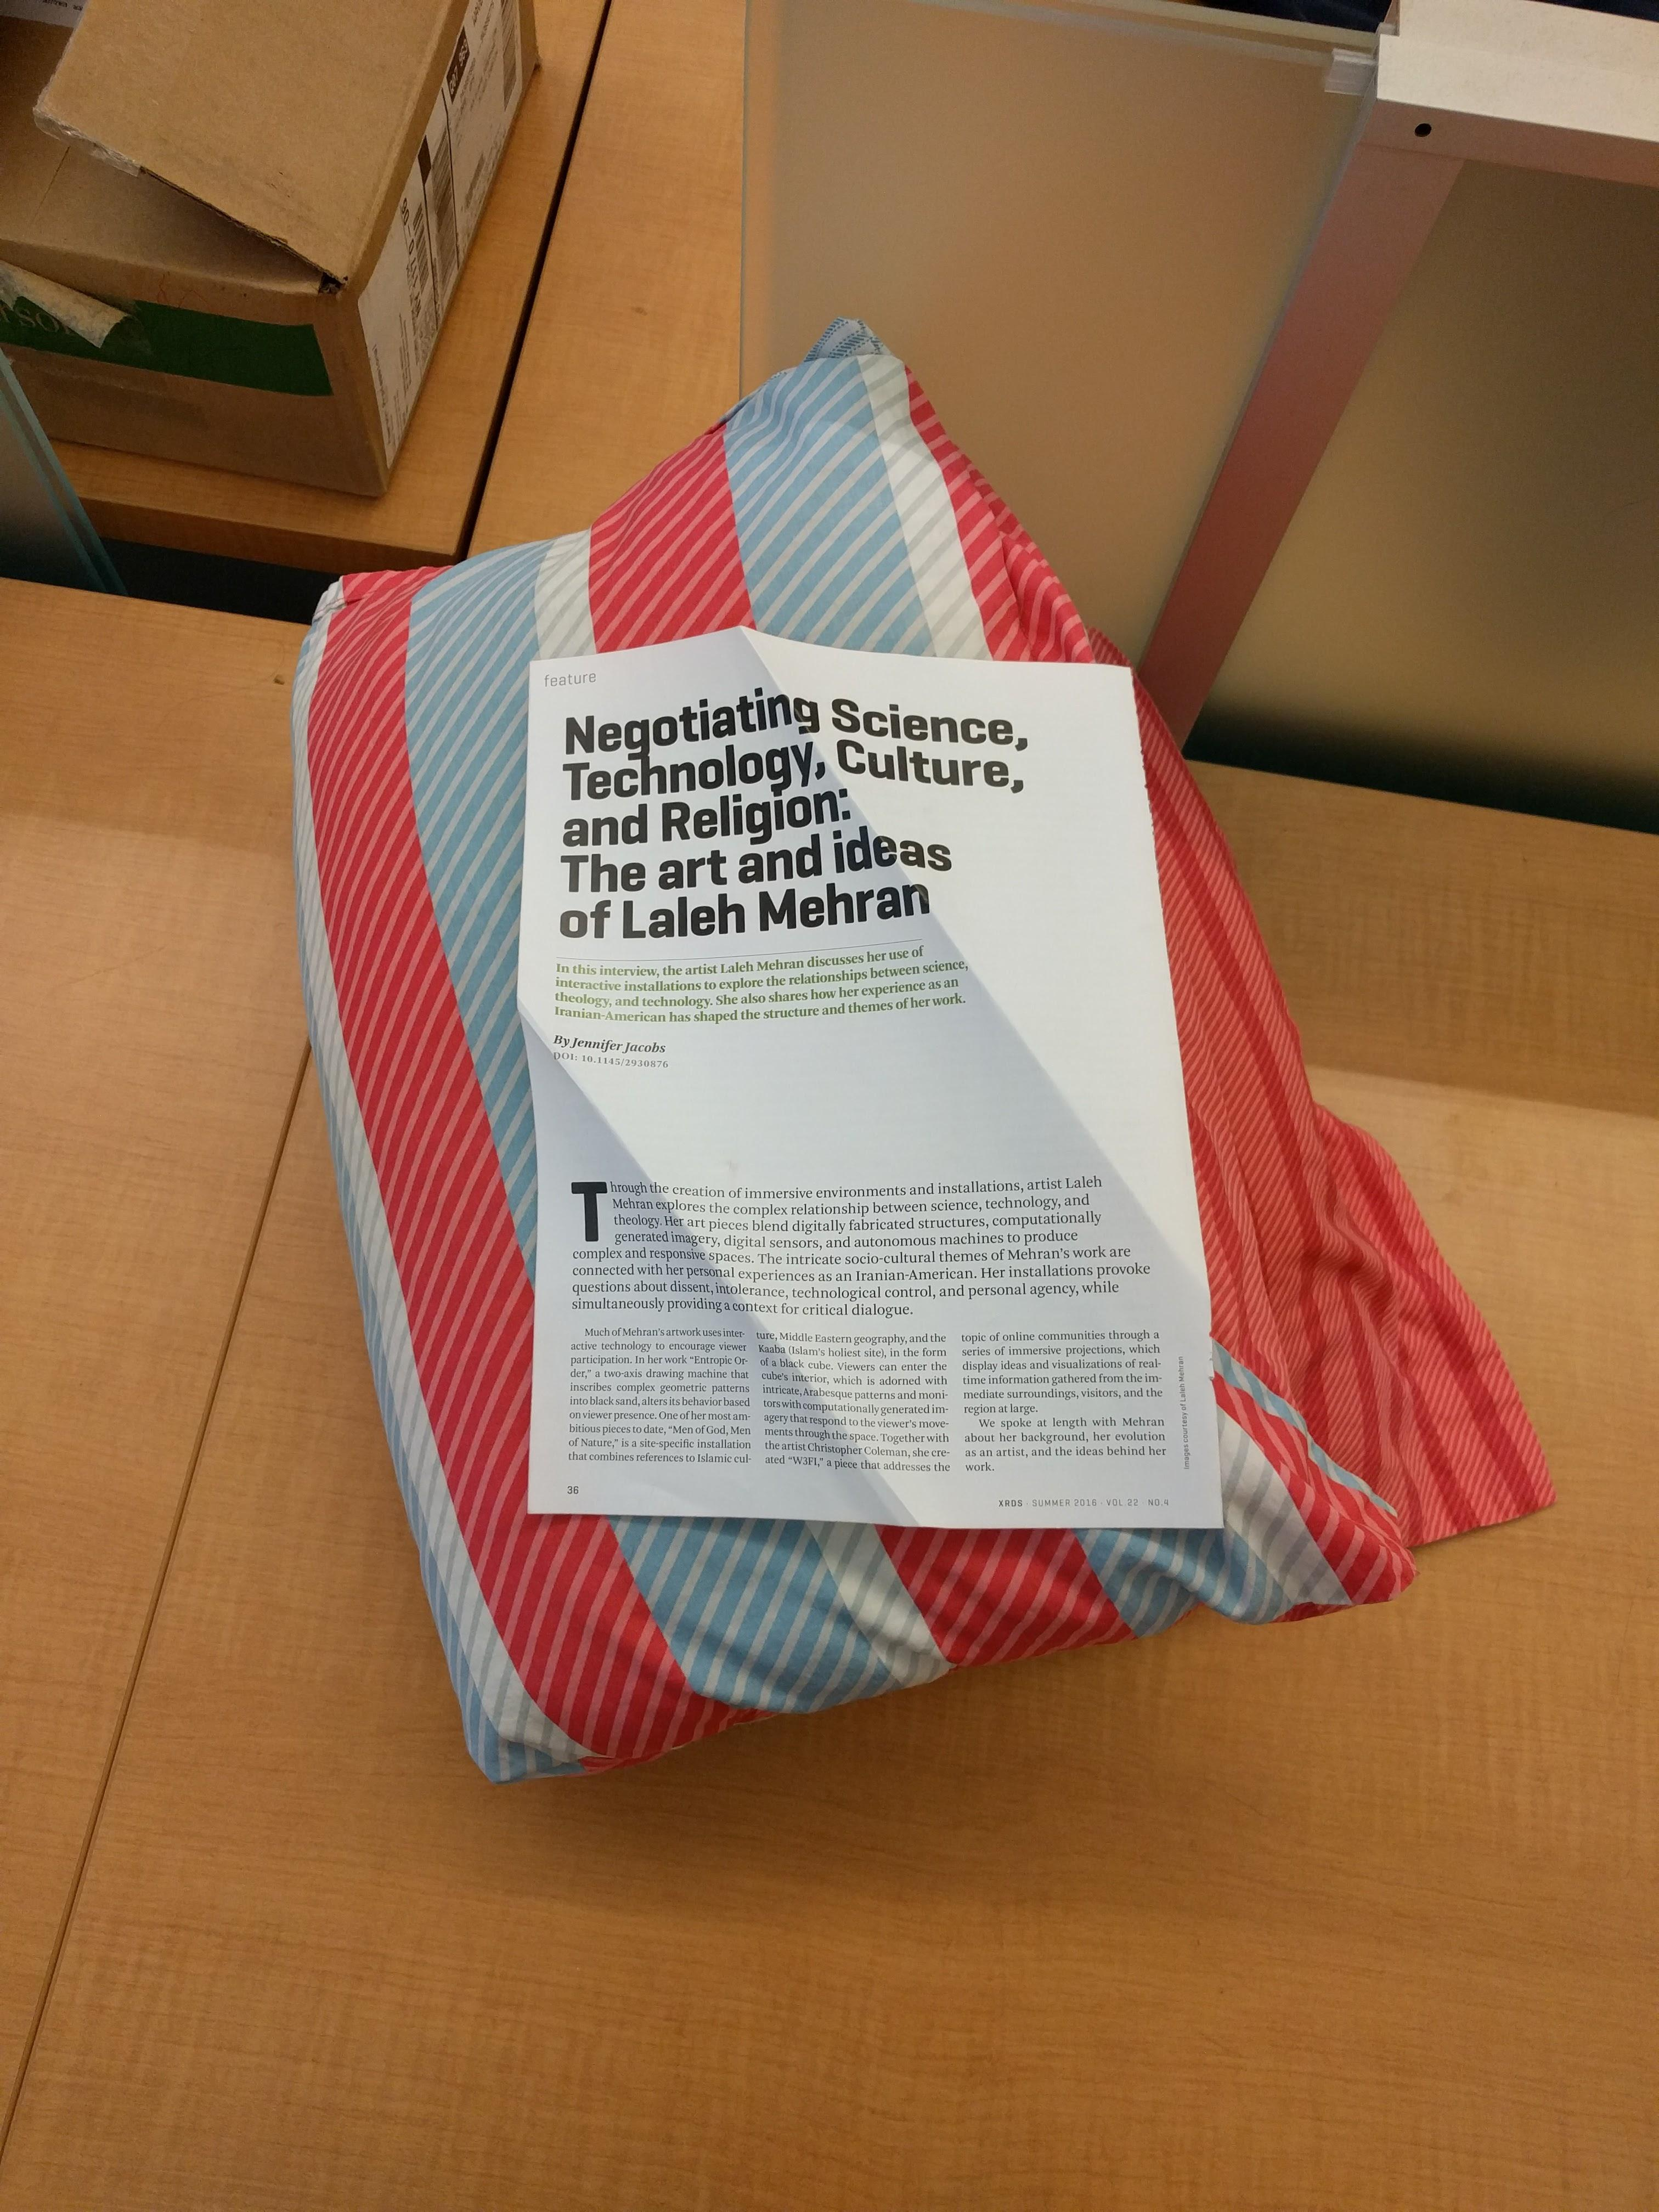paper: (453, 557, 1332, 1618)
